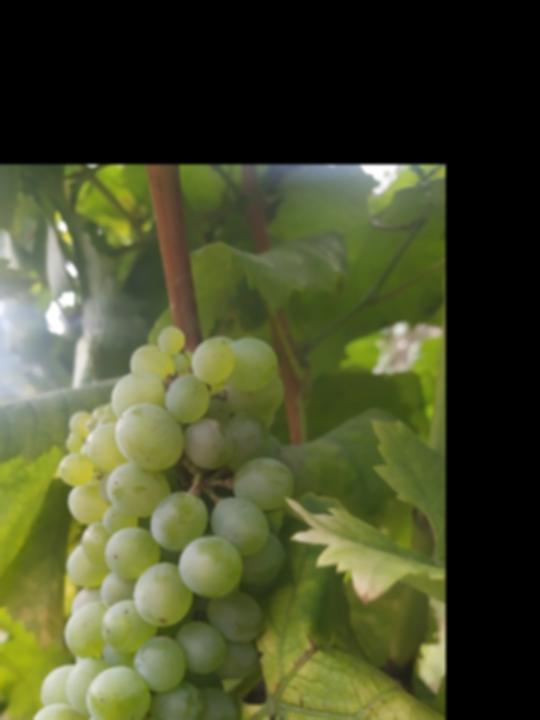grape: (18, 324, 298, 720)
